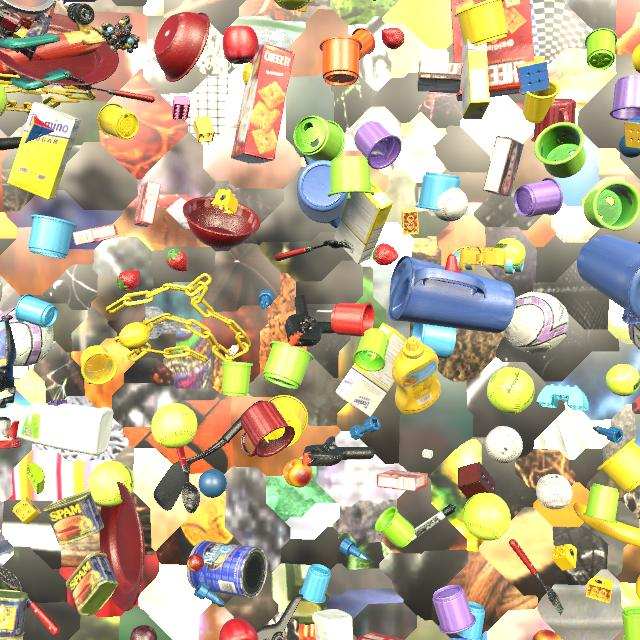ycb_002_master_chef_can: (187, 540, 268, 599)
ycb_003_cracker_box: (451, 0, 534, 101), (231, 44, 294, 164), (355, 631, 405, 640)
ycb_004_sugar_box: (7, 102, 81, 200), (335, 323, 407, 417), (334, 180, 394, 264), (462, 35, 490, 120)
ycb_006_mustard_bottle: (392, 337, 441, 415), (298, 0, 313, 12)
ycb_008_pudding_box: (483, 136, 524, 196), (417, 61, 464, 94)
ycb_009_gelatin_box: (134, 181, 161, 227), (376, 470, 428, 491), (73, 224, 118, 245)
ycb_010_potted_meat_can: (43, 490, 104, 546), (66, 552, 118, 616), (0, 589, 28, 640)
ycb_011_banana: (573, 503, 640, 547), (636, 575, 640, 600)
ycb_012_strawberry: (372, 243, 399, 265), (381, 27, 405, 50), (117, 270, 140, 292), (166, 248, 188, 271)
ycb_013_apple: (223, 25, 259, 64), (219, 618, 258, 640)
ycb_014_lemon: (119, 322, 151, 350), (242, 63, 252, 85)
ycb_015_peach: (283, 459, 312, 488), (532, 630, 562, 640)
ycb_018_plum: (130, 625, 157, 640)
